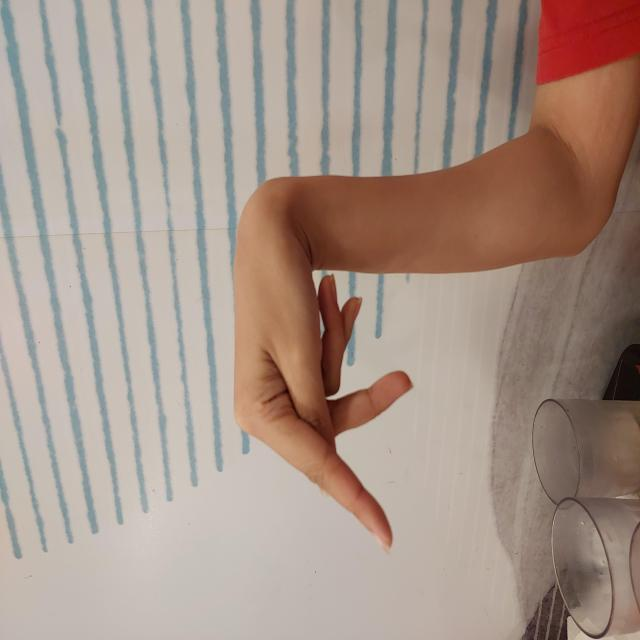P: (83, 231, 415, 415)
